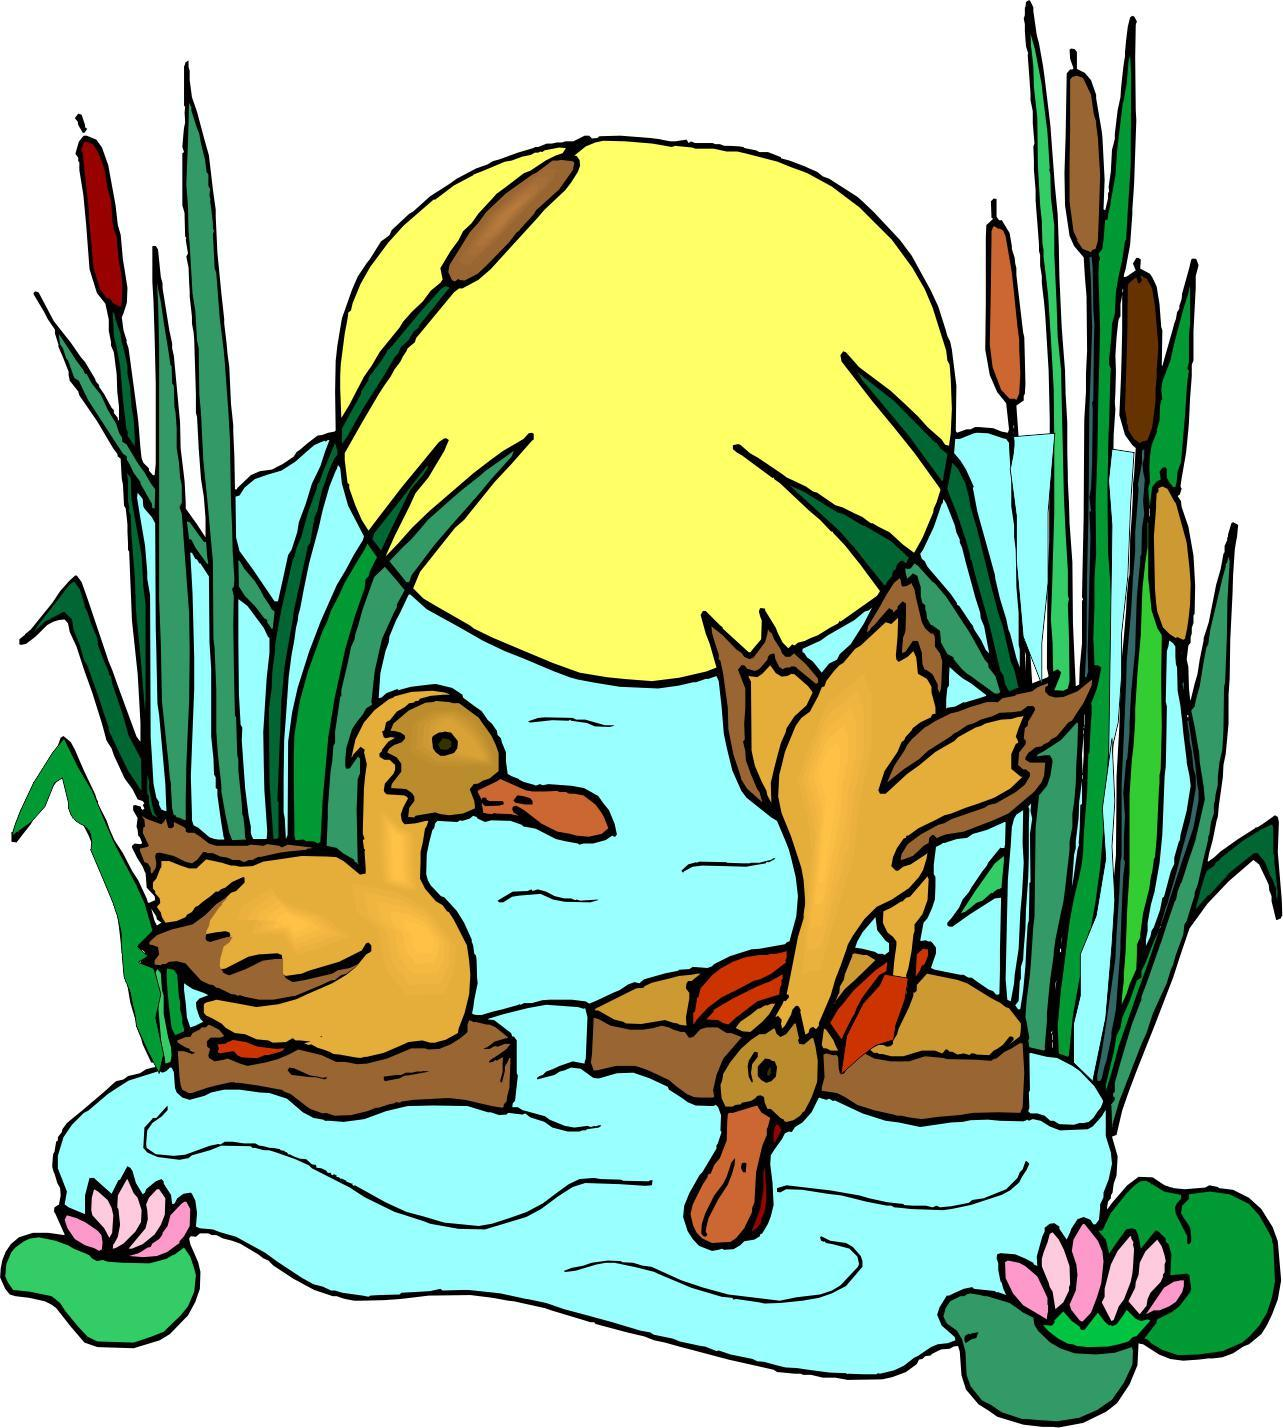bird: (634, 560, 1103, 1262), (102, 642, 620, 1078)
